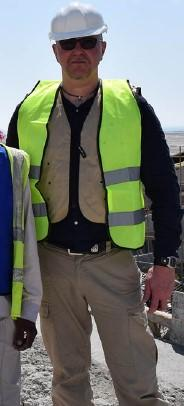hat: (36, 1, 124, 101)
vest: (14, 64, 184, 291), (2, 129, 39, 364)
